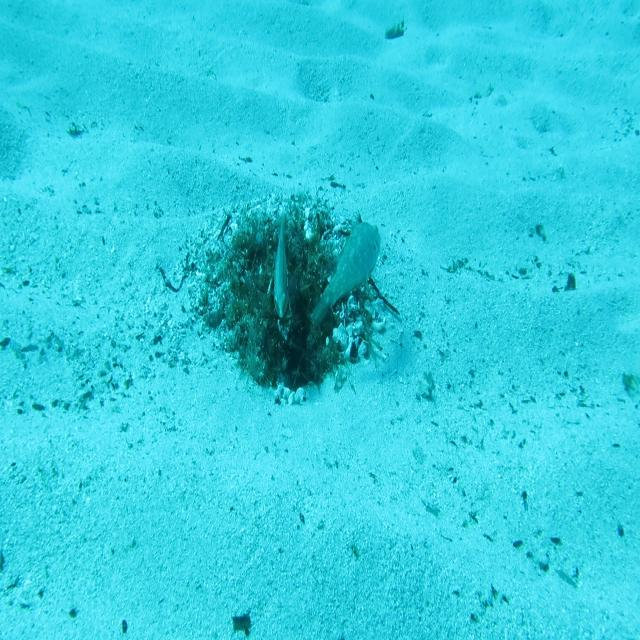BK_SW: (310, 208, 382, 330)
core_nest: (255, 215, 307, 260)
female: (272, 205, 290, 319)
nest: (182, 182, 388, 414)
